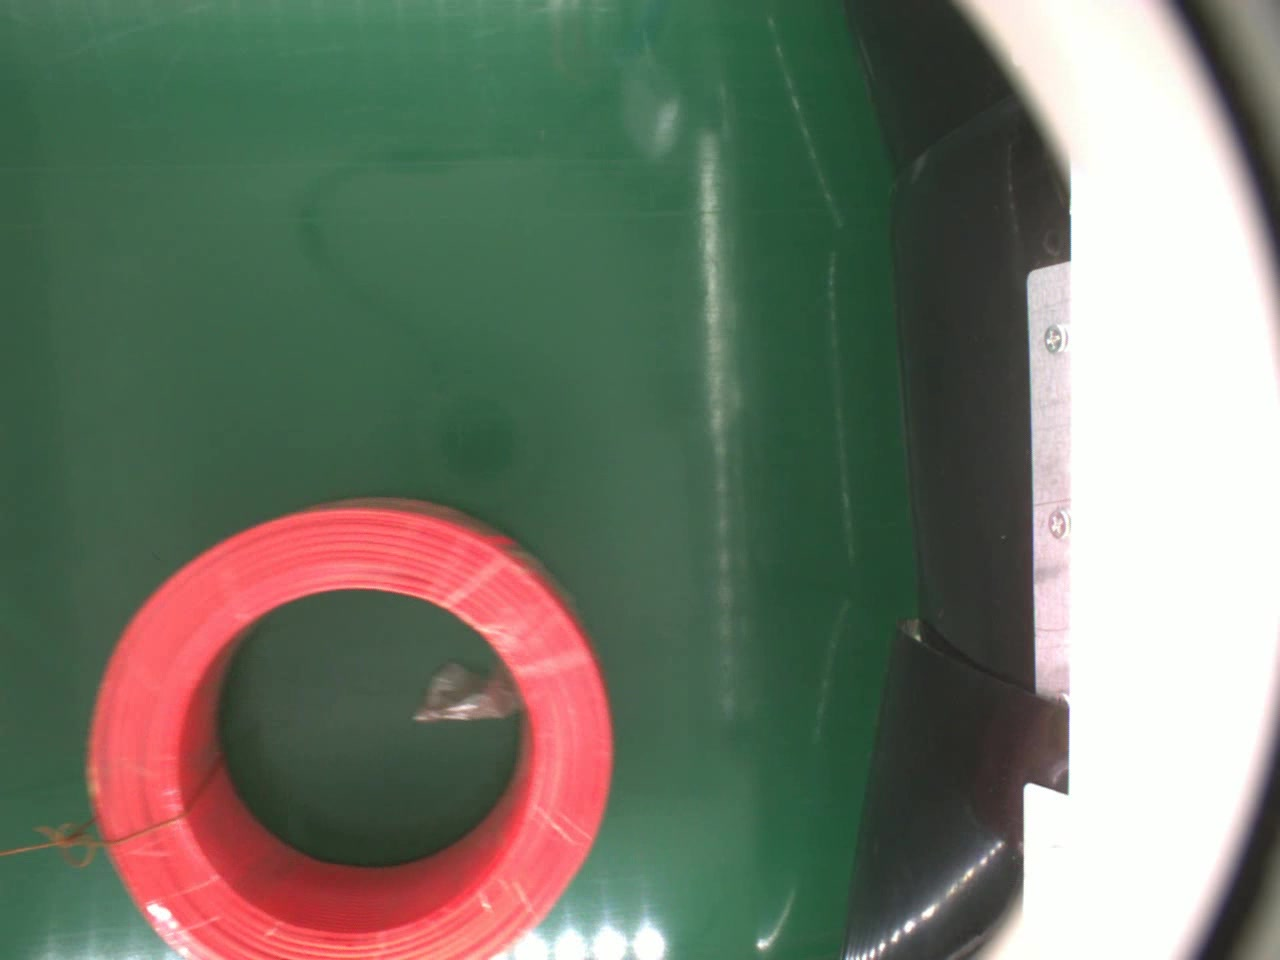red: (87, 492, 619, 960)
